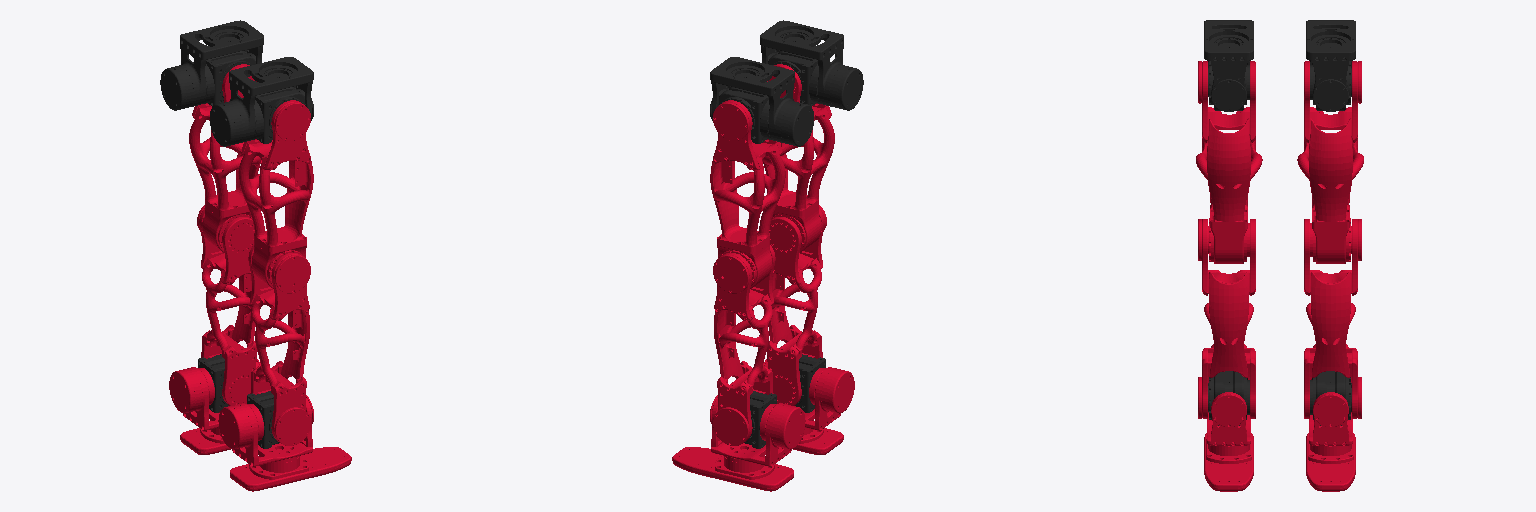
The robot description file, URDF, robot "red_robot":
<robot name="red_robot">
  <mujoco>
    <compiler meshdir="../meshes" balanceinertia="true"/>
  </mujoco>
  <link name="world"/>
  <link name="Pelvis_Link">
    <inertial>
      <origin xyz="0.01 0.0 0.24" rpy="0 0 0" />
      <mass value="52.5" />
      <inertia ixx="0.794" ixy="0.0" ixz="0.0" iyy="0.5657" iyz="0.0" izz="0.5955" />
    </inertial>
    <visual>
      <origin xyz="0 0 0" rpy="0 0 0" />
      <geometry>
        <mesh filename="package://dyros_red_lowerbody_description/meshes/Pelvis_Link.stl" />
      </geometry>
      <material name="">
        <color rgba="0.20313 0.20313 0.20313 1" />
      </material>
    </visual>
    <collision>
      <origin xyz="0 0 0" rpy="0 0 0" />
      <geometry>
        <mesh filename="package://dyros_red_lowerbody_description/meshes/Pelvis_Link.stl" />
      </geometry>
    </collision>
  </link>
  <joint name="virtual" type="floating"> 
    <parent link="world"/>
    <child link="Pelvis_Link"/>    
  </joint>
  <link name="HipRoll_L_Link">
    <inertial>
      <origin xyz="-0.06477 0 0.05149" rpy="0 0 0" />
      <mass value="2.874" />
      <inertia ixx="0.01954" ixy="-1.676E-07" ixz="-0.0008309" iyy="0.03348" iyz="-4.53E-09" izz="0.8081" />
    </inertial>
    <visual>
      <origin xyz="0 0 0" rpy="0 0 0" />
      <geometry>
        <mesh filename="package://dyros_red_lowerbody_description/meshes/HipRoll_L_Link.stl" />
      </geometry>
      <material name="">
        <color rgba="0.20313 0.20313 0.20313 1" />
      </material>
    </visual>
    <collision>
      <origin xyz="0 0 0" rpy="0 0 0" />
      <geometry>
        <mesh filename="package://dyros_red_lowerbody_description/meshes/HipRoll_L_Link.stl" />
      </geometry>
    </collision>
  </link>
  <joint name="HipRoll_L_Joint" type="revolute">
    <origin xyz="0 0.1025 -0.1225" rpy="0 0 0" />
    <parent link="Pelvis_Link" />
    <child link="HipRoll_L_Link" />
    <axis xyz="0 0 1" />
    <limit effort="50" lower="-0.2618" upper="0.2618" velocity="1.045"/>
    <dynamics damping="10" />
  </joint>
  <link name="HipCenter_L_Link">
    <inertial>
      <origin xyz="-0.04801 0.0022 2E-05" rpy="0 0 0" />
      <mass value="2.865" />
      <inertia ixx="1.075" ixy="1.725E-08" ixz="-3.236E-06" iyy="0.0983" iyz="-4.778E-06" izz="0.0094" />
    </inertial>
    <visual>
      <origin xyz="0 0 0" rpy="0 0 0" />
      <geometry>
        <mesh filename="package://dyros_red_lowerbody_description/meshes/HipCenter_L_Link.stl" />
      </geometry>
      <material name="">
        <color rgba="0.20313 0.20313 0.20313 1" />
      </material>
    </visual>
    <collision>
      <origin xyz="0 0 0" rpy="0 0 0" />
      <geometry>
        <mesh filename="package://dyros_red_lowerbody_description/meshes/HipCenter_L_Link.stl" />
      </geometry>
    </collision>

  </link>
  <joint name="HipCenter_L_Joint" type="revolute">
    <origin xyz="0 0 0" rpy="0 0 0" />
    <parent link="HipRoll_L_Link" />
    <child link="HipCenter_L_Link" />
    <axis xyz="1 0 0" />
    <limit effort="100" lower="-0.2618" upper="0.5236" velocity="2.09"/>
    <dynamics damping="10" />
  </joint>
  <link name="Thigh_L_Link">
    <inertial>
      <origin xyz="-0.00042 0.00032 -0.18904" rpy="0 0 0" />
      <mass value="5.756" />
      <inertia ixx="0.3204" ixy="-4.284E-05" ixz="-0.0002102" iyy="1.637" iyz="0.002581" izz="0.01053" />
    </inertial>
    <visual>
      <origin xyz="0 0 0" rpy="0 0 0" />
      <geometry>
        <mesh filename="package://dyros_red_lowerbody_description/meshes/Thigh_L_Link.stl" />
      </geometry>
      <material name="">
        <color rgba="0.85938 0.07813 0.23438 1" />
      </material>
    </visual>
    <collision>
      <origin xyz="0 0 0" rpy="0 0 0" />
      <geometry>
        <mesh filename="package://dyros_red_lowerbody_description/meshes/Thigh_L_Link.stl" />
      </geometry>
    </collision>
  </link>
  <joint name="Thigh_L_Joint" type="revolute">
    <origin xyz="0 0 0" rpy="0 0 0" />
    <parent link="HipCenter_L_Link" />
    <child link="Thigh_L_Link" />
    <axis xyz="0 1 0" />
    <limit effort="200" lower="-1.6581" upper="0.4014" velocity="2.09"/>
    <dynamics damping="10" />
  </joint>
  <link name="Knee_L_Link">
    <inertial>
      <origin xyz="0.00429 -0.00214 -0.1428" rpy="0 0 0" />
      <mass value="4.072" />
      <inertia ixx="0.1579" ixy="-2.887E-05" ixz="-0.002734" iyy="1.443" iyz="-0.001558" izz="0.007814" />
    </inertial>
    <visual>
      <origin xyz="0 0 0" rpy="0 0 0" />
      <geometry>
        <mesh filename="package://dyros_red_lowerbody_description/meshes/Knee_L_Link.stl" />
      </geometry>
      <material name="">
        <color rgba="0.85938 0.07813 0.23438 1" />
      </material>
    </visual>
    <collision>
      <origin xyz="0 0 0" rpy="0 0 0" />
      <geometry>
        <mesh filename="package://dyros_red_lowerbody_description/meshes/Knee_L_Link.stl" />
      </geometry>
    </collision>
  </link>
  <joint name="Knee_L_Joint" type="revolute">
    <origin xyz="0 0 -0.35" rpy="0 0 0" />
    <parent link="Thigh_L_Link" />
    <child link="Knee_L_Link" />
    <axis xyz="0 1 0" />
    <limit effort="200" lower="-0.0218" upper="1.9722" velocity="6.0"/>
    <dynamics damping="10" />
  </joint>
  <link name="AnkleCenter_L_Link">
    <inertial>
      <origin xyz="-0.00419 0.0018 -0.0003" rpy="0 0 0" />
      <mass value="2.693" />
      <inertia ixx="0.003065" ixy="-1.422E-07" ixz="2.222E-06" iyy="1.321" iyz="4.611E-06" izz="0.003589" />
    </inertial>
    <visual>
      <origin xyz="0 0 0" rpy="0 0 0" />
      <geometry>
        <mesh filename="package://dyros_red_lowerbody_description/meshes/AnkleCenter_L_Link.stl" />
      </geometry>
      <material name="">
        <color rgba="0.20313 0.20313 0.20313 1" />
      </material>
    </visual>
    <collision>
      <origin xyz="0 0 0" rpy="0 0 0" />
      <geometry>
        <mesh filename="package://dyros_red_lowerbody_description/meshes/AnkleCenter_L_Link.stl" />
      </geometry>
    </collision>
  </link>
  <joint name="AnkleCenter_L_Joint" type="revolute">
    <origin xyz="0 0 -0.35" rpy="0 0 0" />
    <parent link="Knee_L_Link" />
    <child link="AnkleCenter_L_Link" />
    <axis xyz="0 1 0" />
    <limit effort="200" lower="-1.5149" upper="1.7505" velocity="2.1"/>
    <dynamics damping="10" />
  </joint>
  <link name="AnkleRoll_L_Link">
    <inertial>
      <origin xyz="-0.00802 0 -0.08535" rpy="0 0 0" />
      <mass value="3.632" />
      <inertia ixx="0.4368" ixy="1.434E-05" ixz="-0.00496" iyy="0.0609" iyz="-2.508E-05" izz="0.02495" />
    </inertial>
    <visual>
      <origin xyz="0 0 0" rpy="0 0 0" />
      <geometry>
        <mesh filename="package://dyros_red_lowerbody_description/meshes/AnkleRoll_L_Link.stl" />
      </geometry>
      <material name="">
        <color rgba="0.85938 0.07813 0.23438 1" />
      </material>
    </visual>
    <collision>
      <origin xyz="0 0 0" rpy="0 0 0" />
      <geometry>
        <mesh filename="package://dyros_red_lowerbody_description/meshes/AnkleRoll_L_Link.stl"/>
      </geometry>
    </collision>
  </link>
  <joint name="AnkleRoll_L_Joint" type="revolute">
    <origin xyz="0 0 0" rpy="0 0 0" />
    <parent link="AnkleCenter_L_Link" />
    <child link="AnkleRoll_L_Link" />
    <axis xyz="1 0 0" />
    <limit effort="200" lower="-0.3491" upper="0.3491" velocity="2.1"/>
    <dynamics damping="10" />
  </joint>
  <joint name="LLeg_effector_fixedjoint" type="fixed">
    <parent link="AnkleRoll_L_Link"/>
    <child link="l_sole"/>
    <origin rpy="0 0 0" xyz="0 0 -0.1451"/>
    <axis xyz="0 0 0"/>
  </joint>
  <link name="l_sole"/>
  <link name="HipRoll_R_Link">
    <inertial>
      <origin xyz="-0.06477 0 0.05149" rpy="0 0 0" />
      <mass value="2.874" />
      <inertia ixx="0.01954" ixy="-1.676E-07" ixz="-0.0008309" iyy="0.03348" iyz="-4.53E-09" izz="0.8082" />
    </inertial>
    <visual>
      <origin xyz="0 0 0" rpy="0 0 0" />
      <geometry>
        <mesh filename="package://dyros_red_lowerbody_description/meshes/HipRoll_R_Link.stl" />
      </geometry>
      <material name="">
        <color rgba="0.20313 0.20313 0.20313 1" />
      </material>
    </visual>
    <collision>
      <origin xyz="0 0 0" rpy="0 0 0" />
      <geometry>
        <mesh filename="package://dyros_red_lowerbody_description/meshes/HipRoll_R_Link.stl" />
      </geometry>
    </collision>
  </link>
  <joint name="HipRoll_R_Joint" type="revolute">
    <origin xyz="0 -0.1025 -0.1225" rpy="0 0 0" />
    <parent link="Pelvis_Link" />
    <child link="HipRoll_R_Link" />
    <axis xyz="0 0 1" />
    <limit effort="50.0" lower="-0.2618" upper="0.2618" velocity="1.045"/>
    <dynamics damping="10" />
  </joint>
  <link name="HipCenter_R_Link">
    <inertial>
      <origin xyz="-0.04801 -0.0022 2E-05" rpy="0 0 0" />
      <mass value="2.865" />
      <inertia ixx="1.075" ixy="1.725E-08" ixz="-3.236E-06" iyy="0.009829" iyz="-4.778E-06" izz="0.009399" />
    </inertial>
    <visual>
      <origin xyz="0 0 0" rpy="0 0 0" />
      <geometry>
        <mesh filename="package://dyros_red_lowerbody_description/meshes/HipCenter_R_Link.stl" />
      </geometry>
      <material name="">
        <color rgba="0.20313 0.20313 0.20313 1" />
      </material>
    </visual>
    <collision>
      <origin xyz="0 0 0" rpy="0 0 0" />
      <geometry>
        <mesh filename="package://dyros_red_lowerbody_description/meshes/HipCenter_R_Link.stl" />
      </geometry>
    </collision>
  </link>
  <joint name="HipCenter_R_Joint" type="revolute">
    <origin xyz="0 0 0" rpy="0 0 0" />
    <parent link="HipRoll_R_Link" />
    <child link="HipCenter_R_Link" />
    <axis xyz="1 0 0" />
    <limit effort="200" lower="-0.5236" upper="0.2618" velocity="2.09"/>
    <dynamics damping="10" />
  </joint>
  <link name="Thigh_R_Link">
    <inertial>
      <origin xyz="-0.00042 -0.00032 -0.18904" rpy="0 0 0" />
      <mass value="5.756" />
      <inertia ixx="0.3204" ixy="-4.284E-05" ixz="-0.0002102" iyy="1.637" iyz="0.002581" izz="0.01053" />
    </inertial>
    <visual>
      <origin xyz="0 0 0" rpy="0 0 0" />
      <geometry>
        <mesh filename="package://dyros_red_lowerbody_description/meshes/Thigh_R_Link.stl" />
      </geometry>
      <material name="">
        <color rgba="0.85938 0.07813 0.23438 1" />
      </material>
    </visual>

    <collision>
      <origin xyz="0 0 0" rpy="0 0 0" />
      <geometry>
        <mesh filename="package://dyros_red_lowerbody_description/meshes/Thigh_R_Link.stl" />
      </geometry>
    </collision>
  </link>
  <joint name="Thigh_R_Joint" type="revolute">
    <origin xyz="0 0 0" rpy="0 0 0" />
    <parent link="HipCenter_R_Link" />
    <child link="Thigh_R_Link" />
    <axis xyz="0 1 0" />
    <limit effort="200" lower="-1.6581" upper="0.4014" velocity="2.09"/>
    <dynamics damping="10" />
  </joint>
  <link name="Knee_R_Link">
    <inertial>
      <origin xyz="0.00429 0.00214 -0.1428" rpy="0 0 0" />
      <mass value="4.072" />
      <inertia ixx="0.1579" ixy="-2.887E-05" ixz="-0.002734" iyy="1.443" iyz="-0.001558" izz="0.007814" />
    </inertial>
    <visual>
      <origin xyz="0 0 0" rpy="0 0 0" />
      <geometry>
        <mesh filename="package://dyros_red_lowerbody_description/meshes/Knee_R_Link.stl" />
      </geometry>
      <material name="">
        <color rgba="0.85938 0.07813 0.23438 1" />
      </material>
    </visual>
    <collision>
      <origin xyz="0 0 0" rpy="0 0 0" />
      <geometry>
        <mesh filename="package://dyros_red_lowerbody_description/meshes/Knee_R_Link.stl" />
      </geometry>
    </collision>
  </link>
  <joint name="Knee_R_Joint" type="revolute">
    <origin xyz="0 0 -0.35" rpy="0 0 0" />
    <parent link="Thigh_R_Link" />
    <child link="Knee_R_Link" />
    <axis xyz="0 1 0" />
    <limit effort="200" lower="-0.0218" upper="1.9722" velocity="6.0"/>
    <dynamics damping="10" />
  </joint>
  <link name="AnkleCenter_R_Link">
    <inertial>
      <origin xyz="-0.00419 -0.0018 -0.0003" rpy="0 0 0" />
      <mass value="2.693" />
      <inertia ixx="0.003065" ixy="-1.422E-07" ixz="2.222E-06" iyy="1.321" iyz="4.611E-06" izz="0.003589" />
    </inertial>
    <visual>
      <origin xyz="0 0 0" rpy="0 0 0" />
      <geometry>
        <mesh filename="package://dyros_red_lowerbody_description/meshes/AnkleCenter_R_Link.stl" />
      </geometry>
      <material name="">
        <color rgba="0.20313 0.20313 0.20313 1" />
      </material>
    </visual>
    <collision>
      <origin xyz="0 0 0" rpy="0 0 0" />
      <geometry>
        <mesh filename="package://dyros_red_lowerbody_description/meshes/AnkleCenter_R_Link.stl" />
      </geometry>
    </collision>
  </link>
  <joint name="AnkleCenter_R_Joint" type="revolute">
    <origin xyz="0 0 -0.35" rpy="0 0 0" />
    <parent link="Knee_R_Link" />
    <child link="AnkleCenter_R_Link" />
    <axis xyz="0 1 0" />
    <limit effort="200" lower="-1.5149" upper="1.7505" velocity="2.1"/>
    <dynamics damping="10" />
  </joint>
  <link name="AnkleRoll_R_Link">
    <inertial>
      <origin xyz="-0.00802 0 -0.08535" rpy="0 0 0" />
      <mass value="3.632" />
      <inertia ixx="0.4368" ixy="1.434E-05" ixz="-0.00496" iyy="0.0609" iyz="-2.508E-05" izz="0.02495" />
    </inertial>
    <visual>
      <origin xyz="0 0 0" rpy="0 0 0" />
      <geometry>
        <mesh filename="package://dyros_red_lowerbody_description/meshes/AnkleRoll_R_Link.stl" />
      </geometry>
      <material name="">
        <color rgba="0.85938 0.07813 0.23438 1" />
      </material>
    </visual>
    <collision>
      <origin xyz="0 0 0" rpy="0 0 0" />
      <geometry>
        <mesh filename="package://dyros_red_lowerbody_description/meshes/AnkleRoll_R_Link.stl" scale="1 1 1"/>
      </geometry>
    </collision>
  </link>
  <joint name="AnkleRoll_R_Joint" type="revolute">
    <origin xyz="0 0 0" rpy="0 0 0" />
    <parent link="AnkleCenter_R_Link" />
    <child link="AnkleRoll_R_Link" />
    <axis xyz="1 0 0" />
    <limit effort="200" lower="-0.3491" upper="0.3491" velocity="2.1"/>
    <dynamics damping="10" />
  </joint>
  <joint name="RLeg_effector_fixedjoint" type="fixed">
    <parent link="AnkleRoll_R_Link"/>
    <child link="r_sole"/>
    <origin rpy="0 0 0" xyz="0 0 -0.1451"/>
    <axis xyz="0 0 0"/>
  </joint>
  <link name="r_sole"/>
</robot>

--- Render facts (derived) ---
3 views of the same robot in one strip: view 1: azimuth 30°, elevation 25°; view 2: azimuth 150°, elevation 25°; view 3: azimuth 270°, elevation 25° (orthographic).
Model red_robot with 16 links and 15 joints (12 revolute, 2 fixed, 1 floating), rooted at world, posed all joints at 0.
Links seen in each view (by area): view 1: Thigh_R_Link, Knee_R_Link, Knee_L_Link, AnkleRoll_R_Link, HipRoll_R_Link, HipRoll_L_Link, Thigh_L_Link, AnkleRoll_L_Link, HipCenter_R_Link, HipCenter_L_Link, AnkleCenter_R_Link, AnkleCenter_L_Link; view 2: Thigh_L_Link, Knee_L_Link, Knee_R_Link, AnkleRoll_L_Link, HipRoll_L_Link, HipRoll_R_Link, Thigh_R_Link, AnkleRoll_R_Link, HipCenter_L_Link, HipCenter_R_Link, AnkleCenter_L_Link, AnkleCenter_R_Link; view 3: Thigh_L_Link, Thigh_R_Link, Knee_R_Link, Knee_L_Link, AnkleRoll_L_Link, AnkleRoll_R_Link, HipRoll_L_Link, HipRoll_R_Link, AnkleCenter_L_Link, AnkleCenter_R_Link.
Boxes of the visible links, bbox=[...] form: Thigh_R_Link: bbox=[238, 100, 313, 288]; Knee_R_Link: bbox=[248, 245, 310, 445]; Knee_L_Link: bbox=[197, 205, 256, 405]; AnkleRoll_R_Link: bbox=[218, 395, 351, 491]; HipRoll_R_Link: bbox=[210, 57, 313, 146]; HipRoll_L_Link: bbox=[160, 20, 263, 110]; Thigh_L_Link: bbox=[189, 64, 260, 252]; AnkleRoll_L_Link: bbox=[169, 359, 260, 454]; HipCenter_R_Link: bbox=[255, 87, 304, 143]; HipCenter_L_Link: bbox=[206, 51, 255, 106]; AnkleCenter_R_Link: bbox=[247, 391, 279, 448]; AnkleCenter_L_Link: bbox=[198, 354, 228, 412]; Thigh_L_Link: bbox=[710, 100, 785, 288]; Knee_L_Link: bbox=[713, 245, 775, 445]; Knee_R_Link: bbox=[767, 205, 826, 405]; AnkleRoll_L_Link: bbox=[672, 395, 805, 491]; HipRoll_L_Link: bbox=[710, 57, 813, 146]; HipRoll_R_Link: bbox=[760, 20, 863, 110]; Thigh_R_Link: bbox=[763, 64, 834, 252]; AnkleRoll_R_Link: bbox=[763, 359, 854, 454]; HipCenter_L_Link: bbox=[719, 87, 768, 143]; HipCenter_R_Link: bbox=[768, 51, 817, 106]; AnkleCenter_L_Link: bbox=[744, 391, 776, 448]; AnkleCenter_R_Link: bbox=[795, 354, 825, 412]; Thigh_L_Link: bbox=[1297, 61, 1363, 263]; Thigh_R_Link: bbox=[1196, 61, 1262, 263]; Knee_R_Link: bbox=[1198, 219, 1255, 418]; Knee_L_Link: bbox=[1304, 219, 1361, 418]; AnkleRoll_L_Link: bbox=[1306, 377, 1355, 491]; AnkleRoll_R_Link: bbox=[1204, 377, 1253, 491]; HipRoll_L_Link: bbox=[1306, 20, 1355, 111]; HipRoll_R_Link: bbox=[1204, 20, 1253, 111]; AnkleCenter_L_Link: bbox=[1310, 371, 1351, 425]; AnkleCenter_R_Link: bbox=[1208, 371, 1249, 425].
Bounding box of the posed robot: 0.3028 × 0.34 × 0.9318 m (x, y, z).
Meshes: 13 distinct files referenced, 12 mesh visuals loaded (12 binary STL); not drawn: 1 (reference not matched to a file when rendering).
